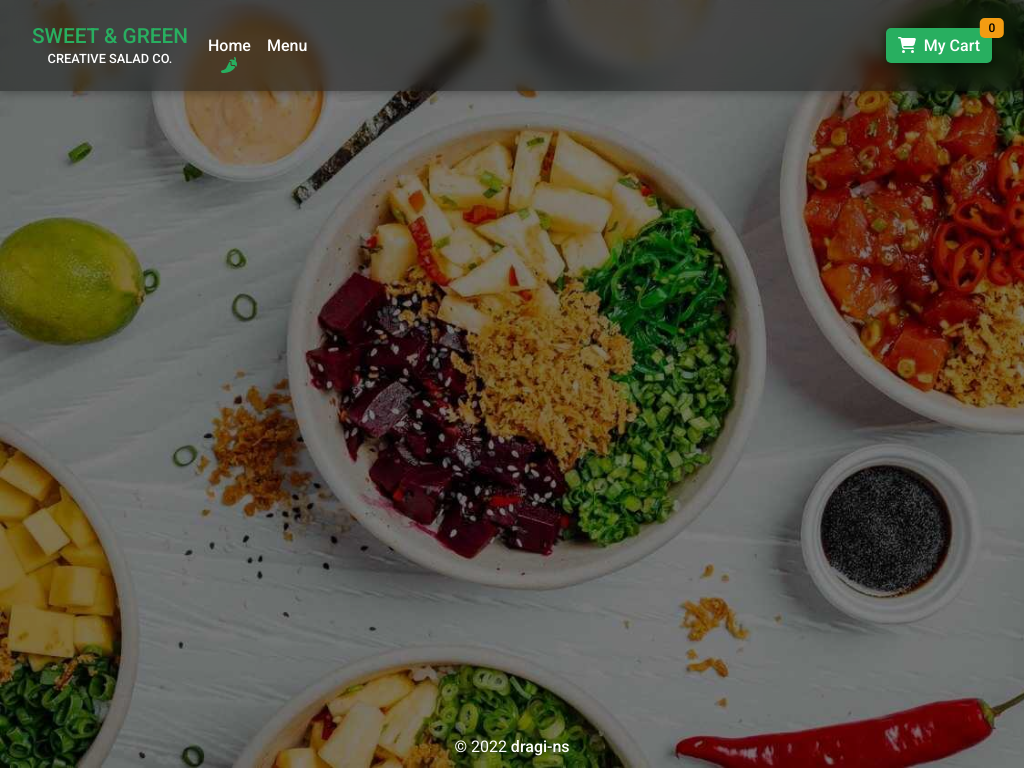
Test: App › opens cart sidebar when shopping cart button is clicked
Click the button "My Cart": coordinates (939, 46) [886,28,992,63]
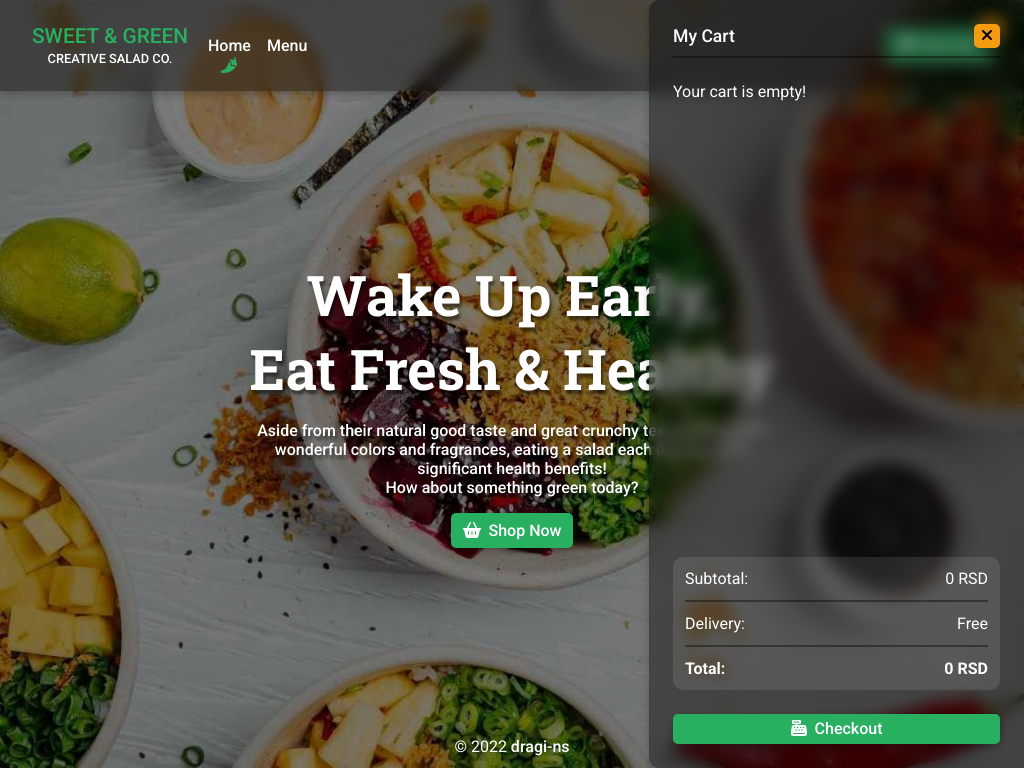
Expected: the heading "My Cart" is shown, [673,26,735,46]
